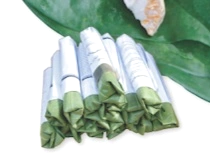bulathwita: (39, 26, 179, 149)
